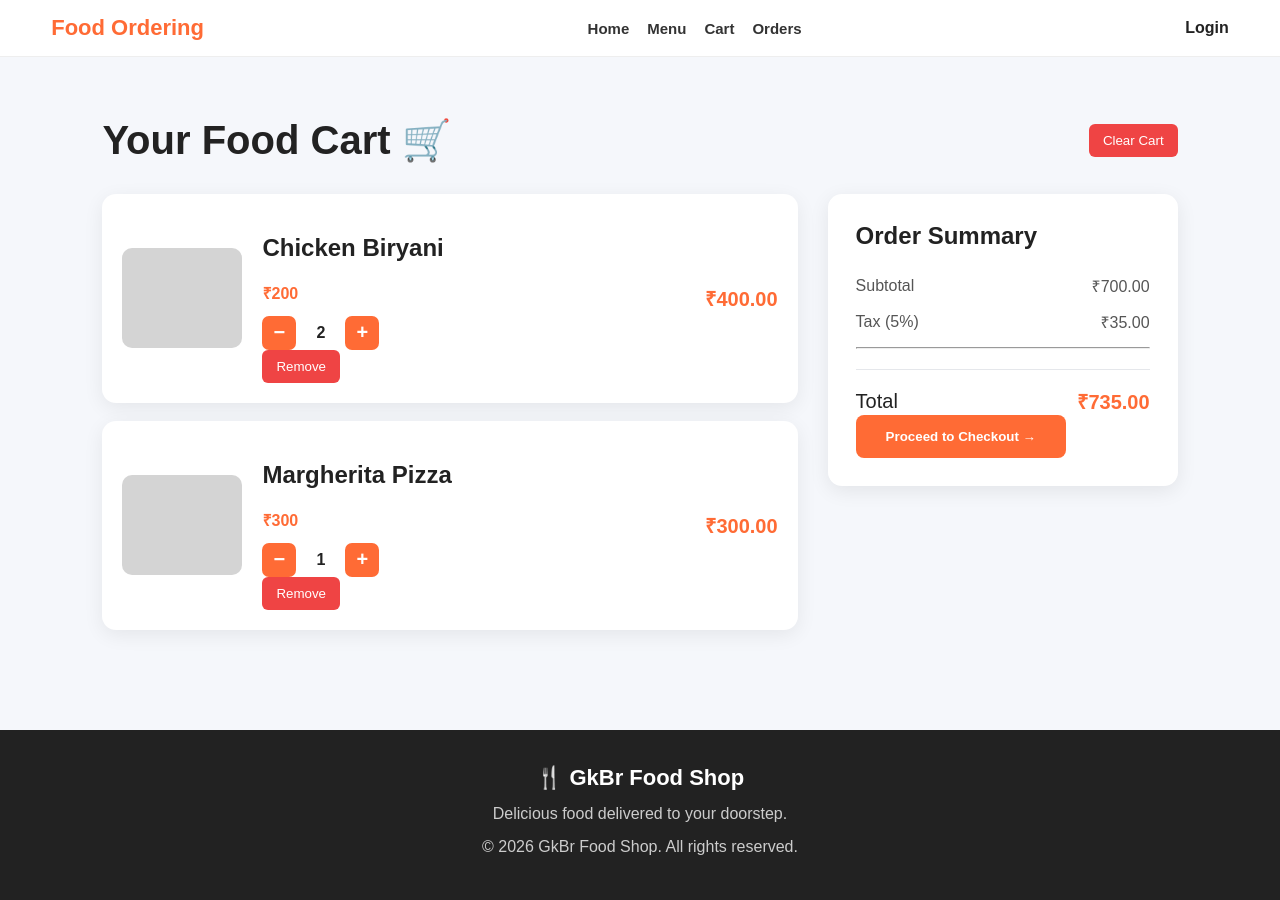
Cart Component › clear cart button removes all items
Click the button with aria-label "Clear all items from cart": (1133, 140) [1089,124,1178,157]
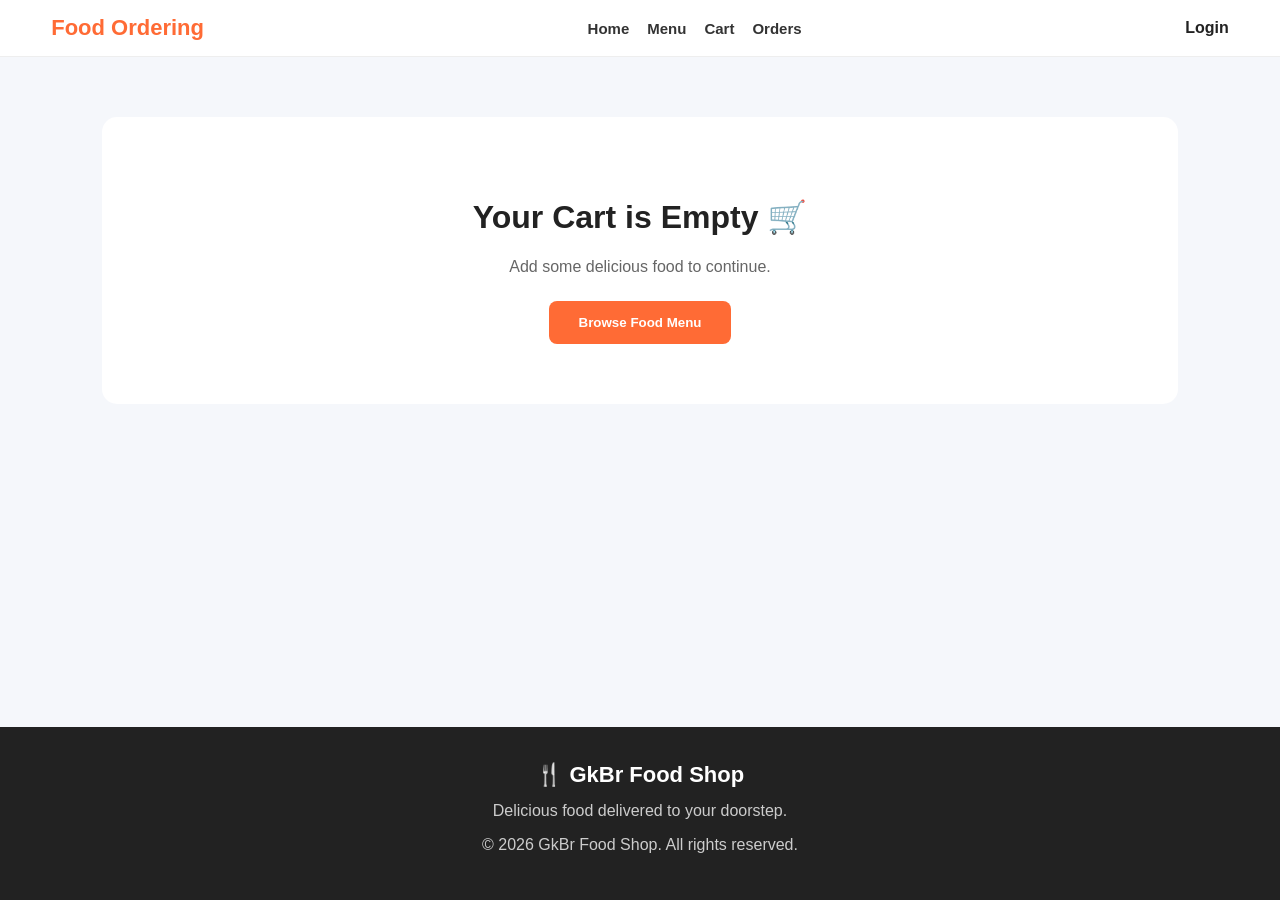
Check: the heading "Your Cart is Empty 🛒" is shown, box [473,199,807,235]
